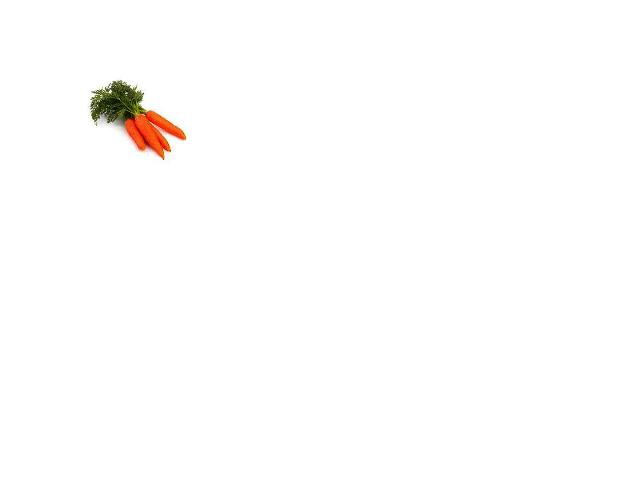carrot: (123, 118, 141, 151)
